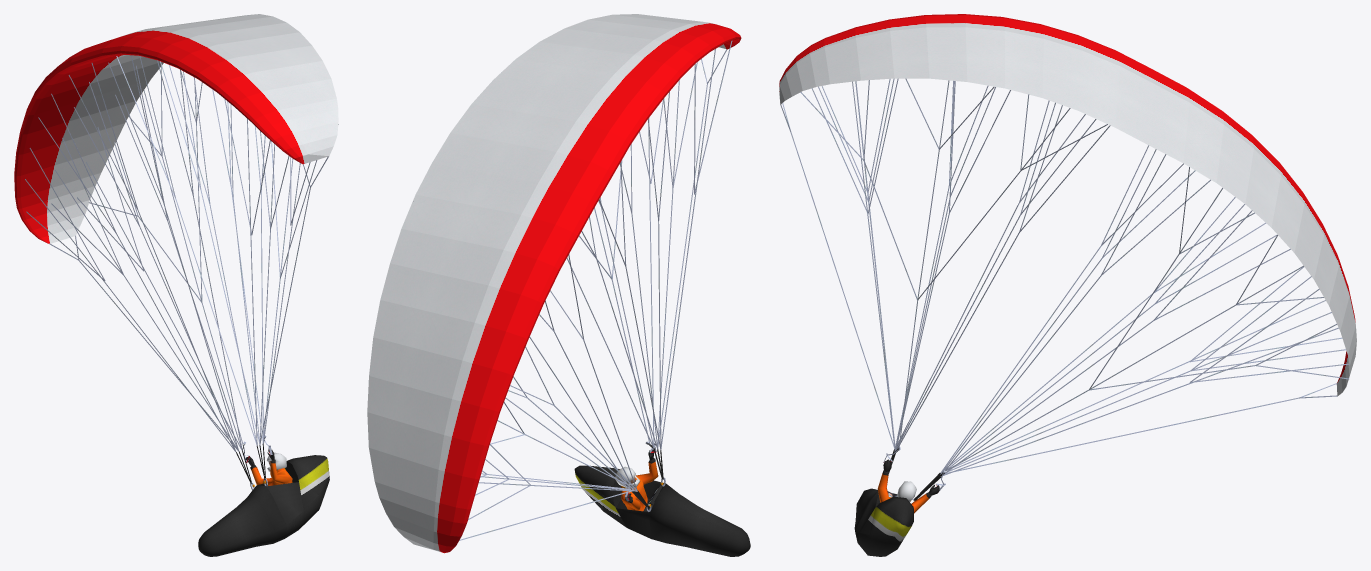
File: paraglider-red-thermal-cbj_LOD01.gltf
The picture shows the model from 3 angles, left to right: view 1: azimuth 30°, elevation 25°; view 2: azimuth 150°, elevation 25°; view 3: azimuth 270°, elevation 25°; orthographic projection. The views are drawn at different scales.
Parts seen in each view (by area): view 1: glider00; view 2: glider00; view 3: glider00.
Boxes of the visible parts, bbox=[...] form: glider00: bbox=[14, 14, 338, 556]; glider00: bbox=[367, 14, 750, 556]; glider00: bbox=[779, 14, 1356, 556].
Size of what is drawn, in the model's own units: 2.82 by 8 by 8.12.
